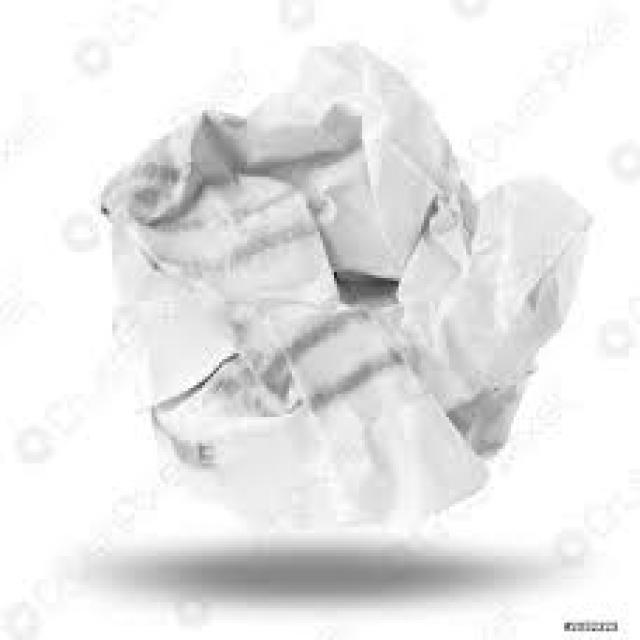trash: (96, 39, 590, 522)
